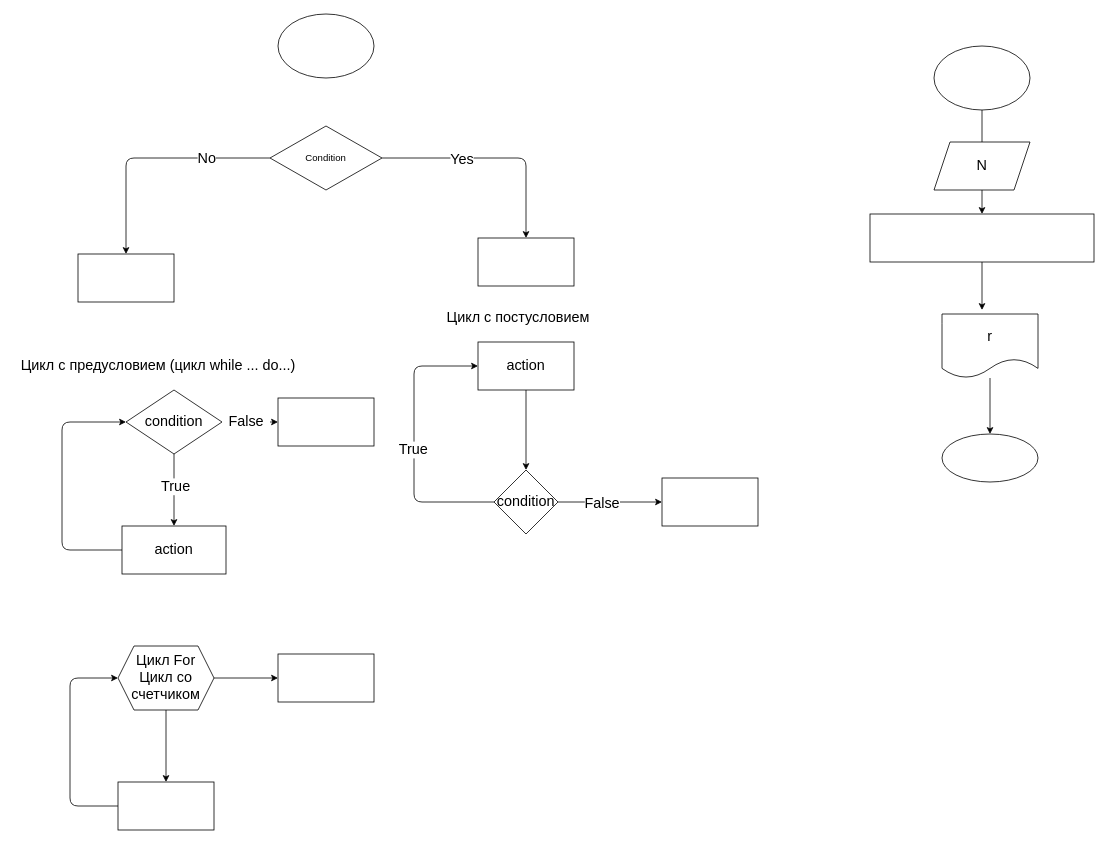
This 1108x844 diagram has some shape labels left out. The shapes that lost their labels are listed below. From the top down, each one's centre as x and y in pixels, then its label:
At (325,45): "Start/End".
At (981,77): "Start".
At (981,237): "r = random(1, N)".
At (989,457): "End".
